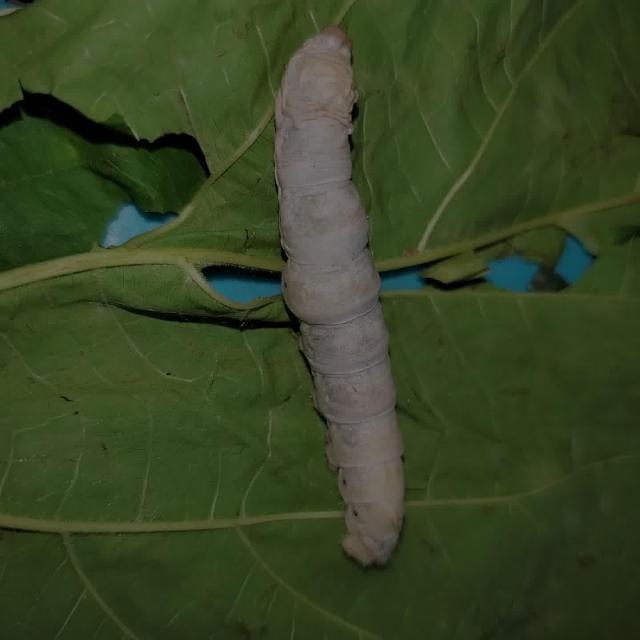Grasserie: (242, 9, 428, 592)
